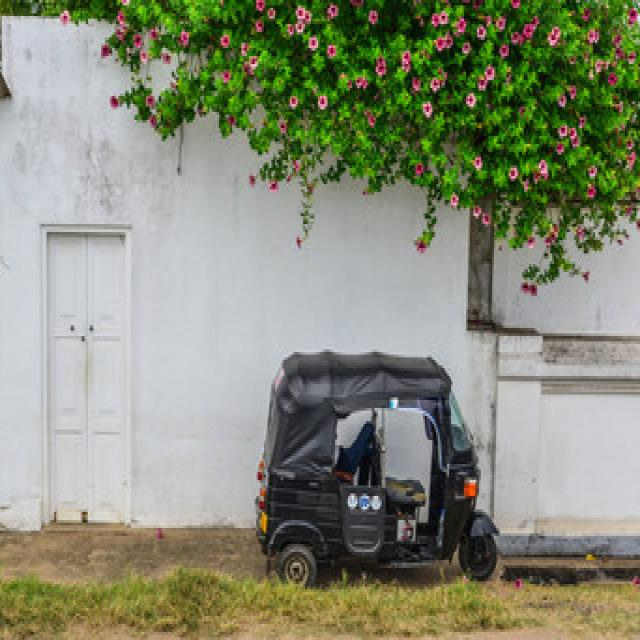three wheeler: (256, 352, 496, 584)
